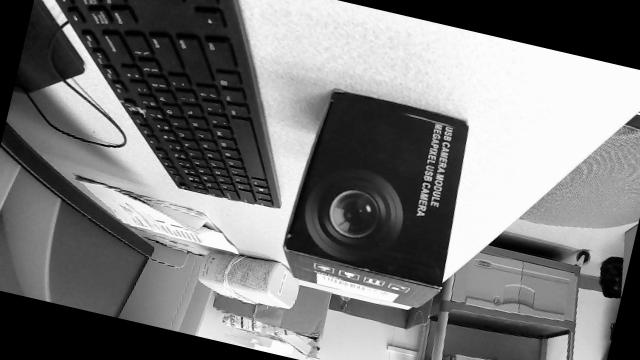CameraBox2: (282, 90, 468, 308)
